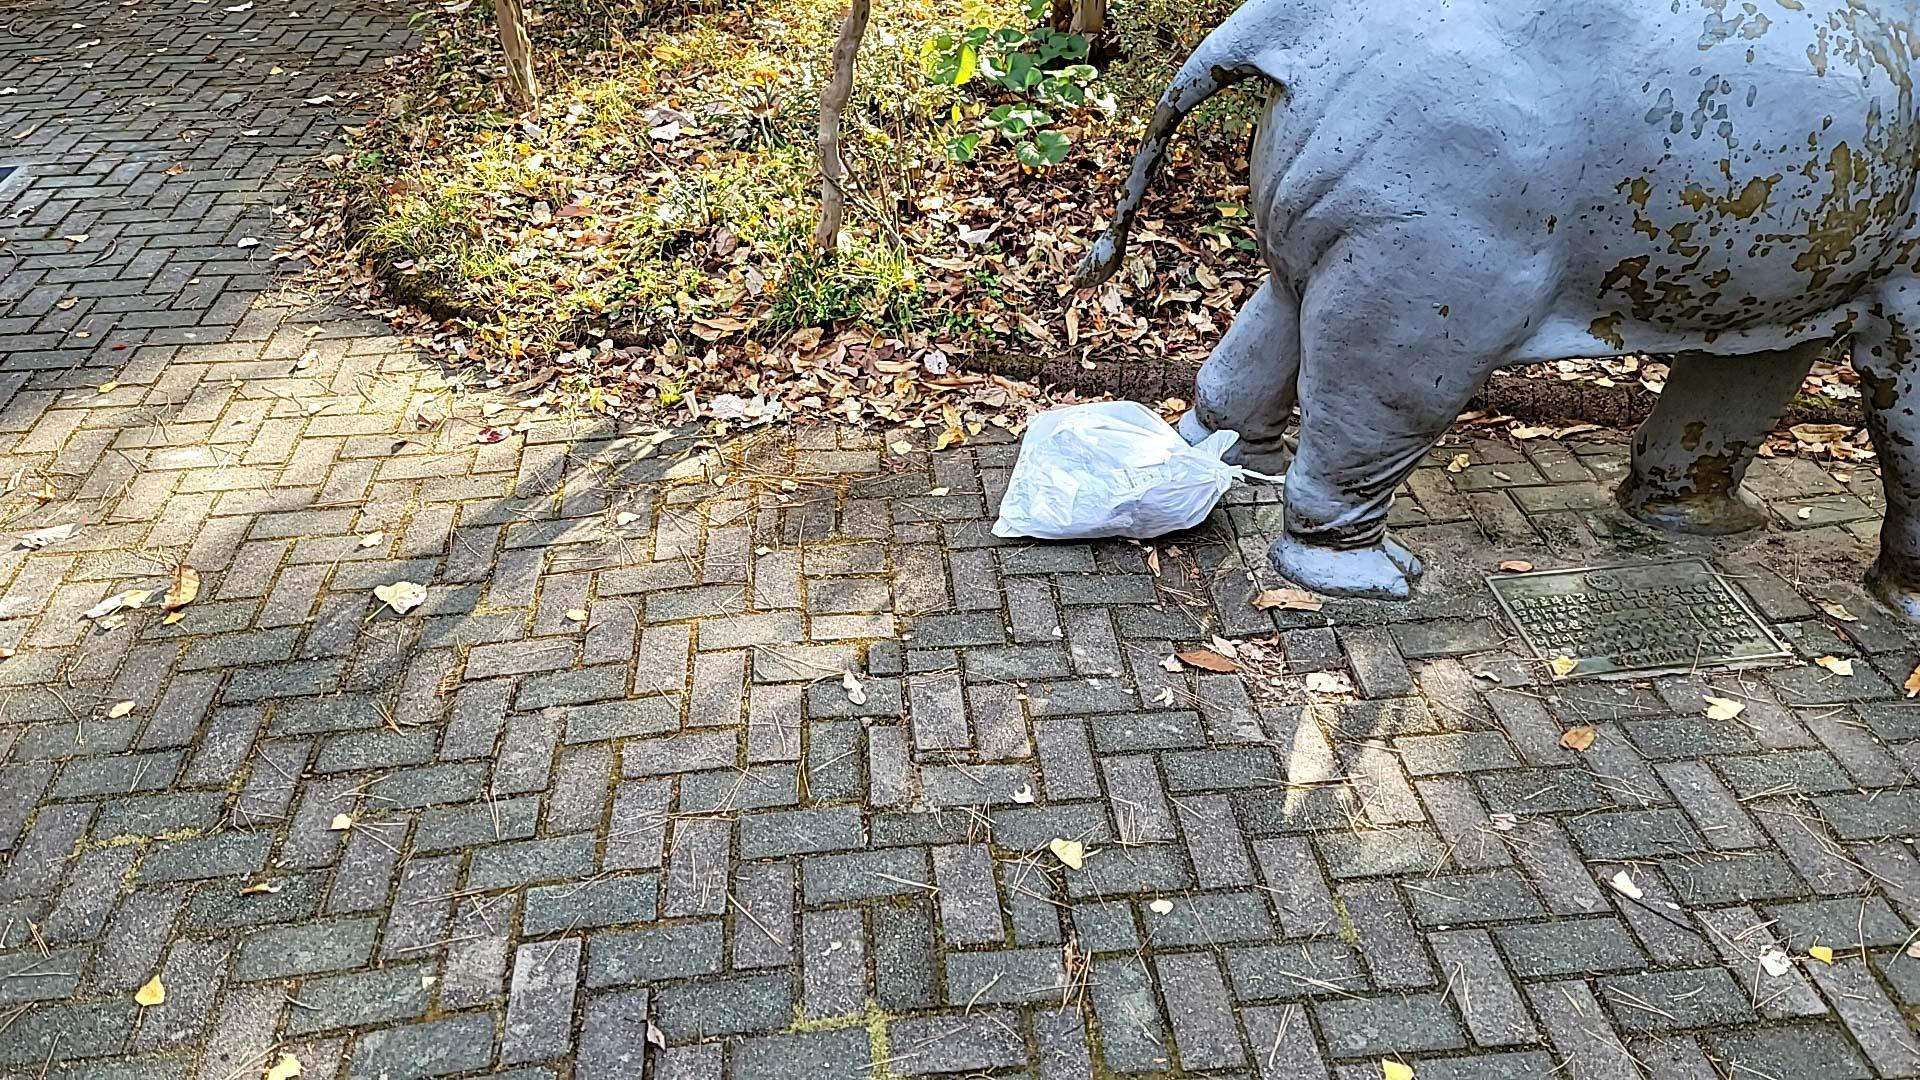white_bag: (972, 386, 1295, 558)
